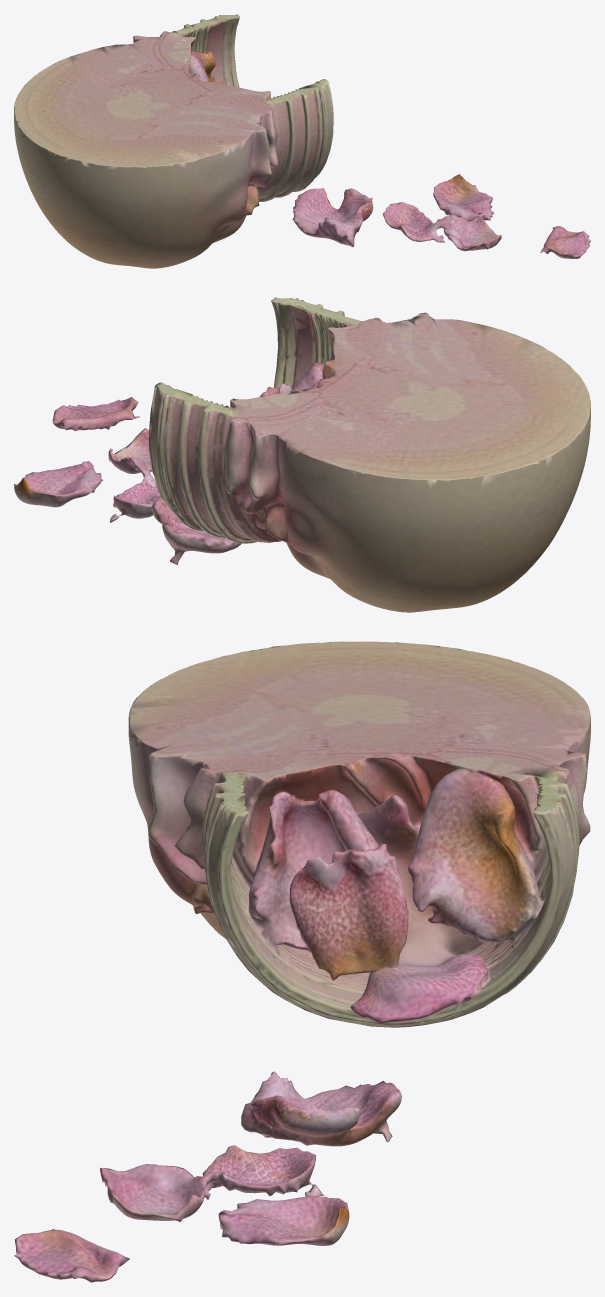
The model's file is petalos-rosa.glb.
The picture shows the model from 3 angles, top to bottom: view 1: azimuth 30°, elevation 25°; view 2: azimuth 150°, elevation 25°; view 3: azimuth 270°, elevation 25°; orthographic projection. The views are drawn at different scales.
Parts seen in each view (by area): view 1: tripo_node_fb88d943-4789-4b08-9c42-7fe00551ed6b; view 2: tripo_node_fb88d943-4789-4b08-9c42-7fe00551ed6b; view 3: tripo_node_fb88d943-4789-4b08-9c42-7fe00551ed6b.
Part boxes in pixels (x1,y1,x2,y2): tripo_node_fb88d943-4789-4b08-9c42-7fe00551ed6b: (14, 14, 590, 268); tripo_node_fb88d943-4789-4b08-9c42-7fe00551ed6b: (14, 297, 590, 612); tripo_node_fb88d943-4789-4b08-9c42-7fe00551ed6b: (14, 641, 590, 1282).
Bounding box in the file's own units: 0.9787 × 0.3537 × 0.6151.
1 material, 1 textured.
